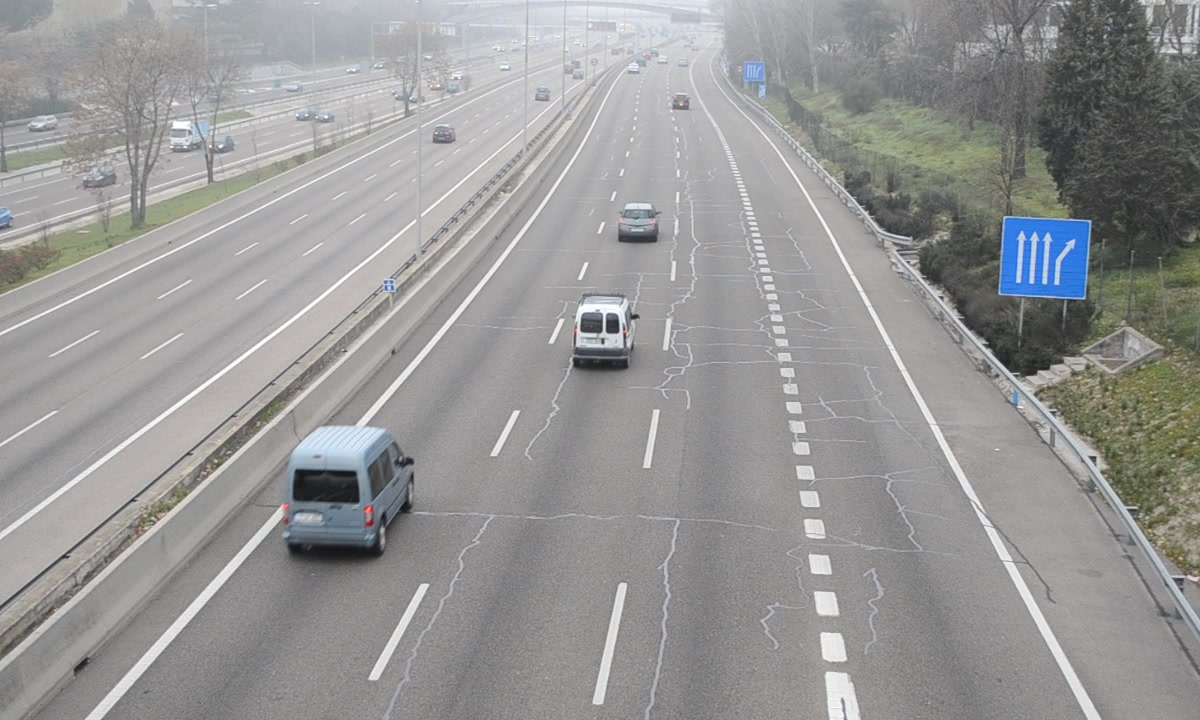car: (617, 203, 659, 240)
van: (281, 429, 412, 552), (572, 295, 632, 362)
